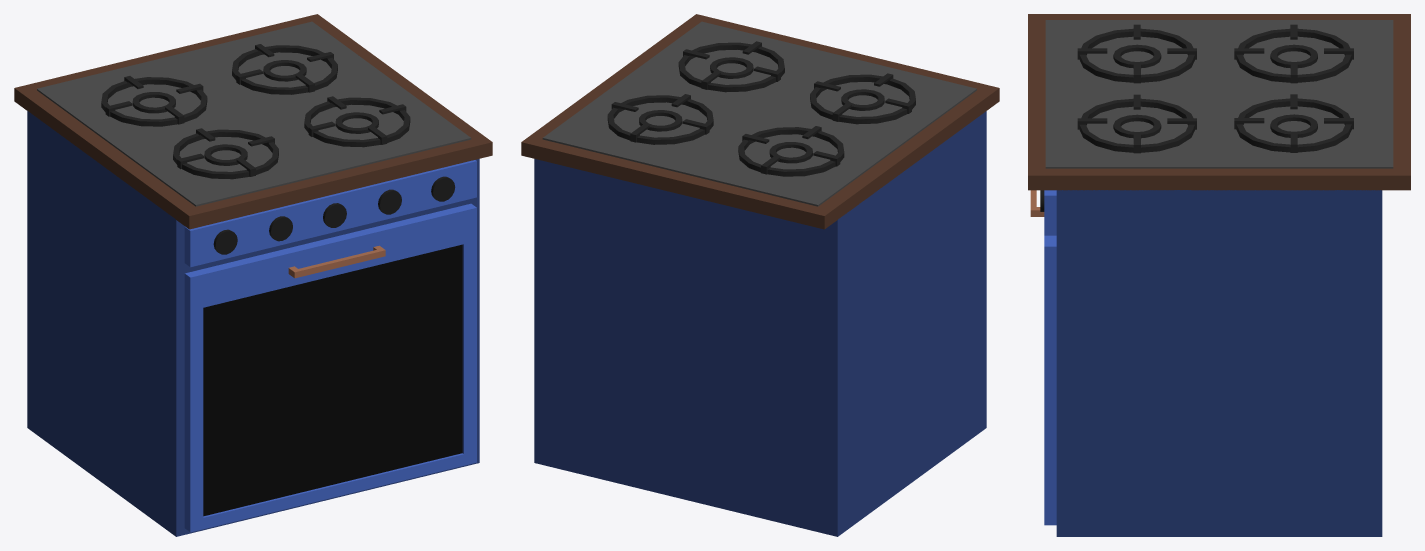
The model's file is stove.fbx.
3 renders of one model, left to right at view 1: azimuth 30°, elevation 25°; view 2: azimuth 150°, elevation 25°; view 3: azimuth 270°, elevation 25°, orthographic. The views are drawn at different scales.
Visible parts, largest first — view 1: Cube_5_3, Cube_5_2, Cube, Cube_4_3, Cube_4_2, Cube_1_5, Tube_2_3, Tube_2, Tube_2_2, Tube_2_4, Cube_6, Tube_1_2 (+3 smaller); view 2: Cube_5_2, Cube, Cube_4_2, Tube_2_3, Tube_2_4, Tube_2, Tube_2_2, Tube_1_2, Tube_1, Tube_1_3, Tube_1_4; view 3: Cube_5_2, Cube, Cube_4_2, Cube_4_3, Tube_2_3, Tube_2, Tube_2_2, Tube_2_4, Tube_1_4, Tube_1_2, Tube_1_3, Tube_1 (+1 smaller).
Boxes of the visible parts, x1,y1,x2,y2 form: Cube_5_3: [203, 244, 462, 516]; Cube_5_2: [27, 111, 479, 536]; Cube: [37, 21, 471, 206]; Cube_4_3: [184, 203, 476, 532]; Cube_4_2: [14, 14, 492, 229]; Cube_1_5: [184, 160, 476, 267]; Tube_2_3: [101, 77, 207, 126]; Tube_2: [304, 97, 410, 147]; Tube_2_2: [173, 129, 278, 179]; Tube_2_4: [232, 45, 337, 94]; Cube_6: [288, 245, 385, 278]; Tube_1_2: [204, 144, 247, 165]; Cube_5_2: [534, 111, 986, 536]; Cube: [542, 21, 976, 206]; Cube_4_2: [521, 14, 999, 229]; Tube_2_3: [738, 127, 844, 176]; Tube_2_4: [607, 95, 713, 144]; Tube_2: [678, 42, 784, 92]; Tube_2_2: [810, 74, 915, 124]; Tube_1_2: [841, 89, 884, 110]; Tube_1: [710, 57, 753, 78]; Tube_1_3: [769, 142, 812, 163]; Tube_1_4: [639, 110, 682, 131]; Cube_5_2: [1056, 190, 1382, 536]; Cube: [1045, 20, 1393, 168]; Cube_4_2: [1028, 14, 1410, 190]; Cube_4_3: [1044, 235, 1056, 525]; Tube_2_3: [1236, 28, 1351, 82]; Tube_2: [1079, 98, 1194, 152]; Tube_2_2: [1079, 28, 1194, 82]; Tube_2_4: [1236, 98, 1351, 152]; Tube_1_4: [1270, 114, 1317, 137]; Tube_1_2: [1113, 44, 1161, 68]; Tube_1_3: [1270, 44, 1317, 68]; Tube_1: [1113, 114, 1161, 138].
Bounding box in the file's own units: 200 × 214 × 200.
